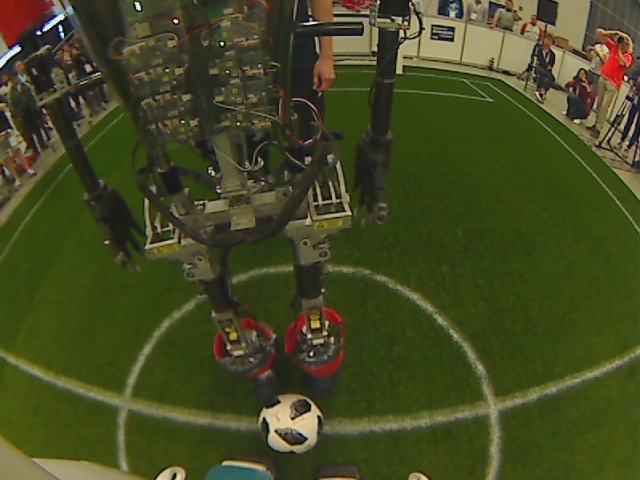ball: (254, 390, 328, 459)
